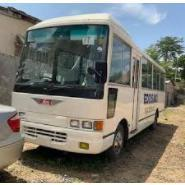bus: (10, 15, 164, 159)
